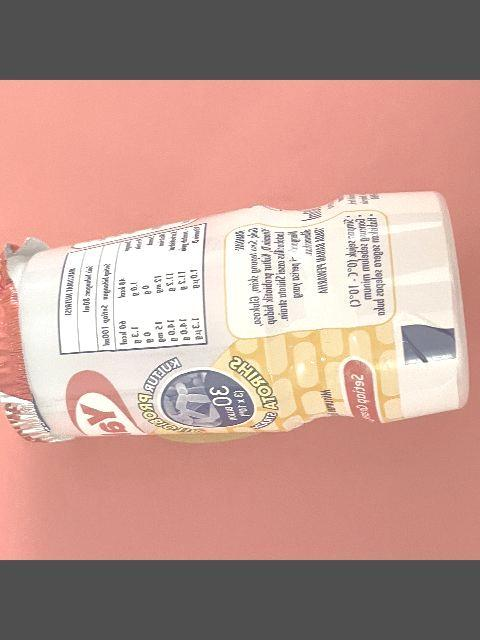plasticbottle: (0, 188, 473, 445)
